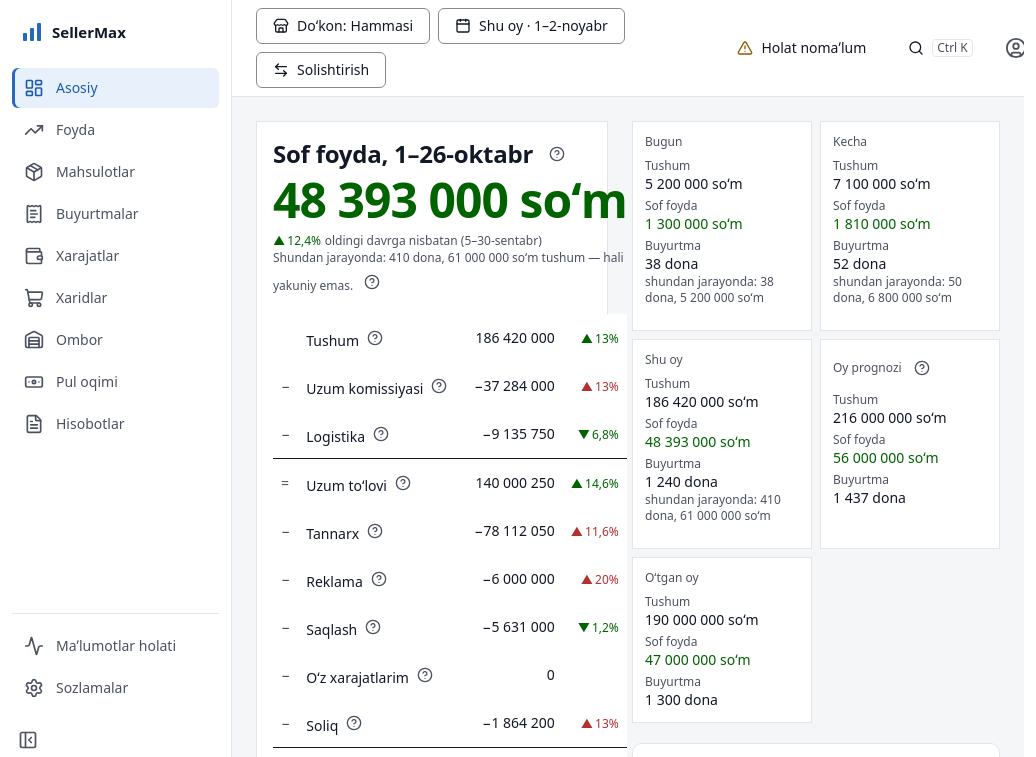
Test case: SyncIndicator › holat yuklanmasa — 'Holat nomaʼlum' (yangi deb aldamaydi)
The width and height of the screenshot is (1036, 757).
expect the navigation bar named "Asosiy menyu" is shown: met, box [12,68,219,708]
What coordinates should you click on to do the following:
click the button with aria-label "Maʼlumot yangiligi:"
I would click on:
 (802, 48)
Its box is [720,30,883,66].
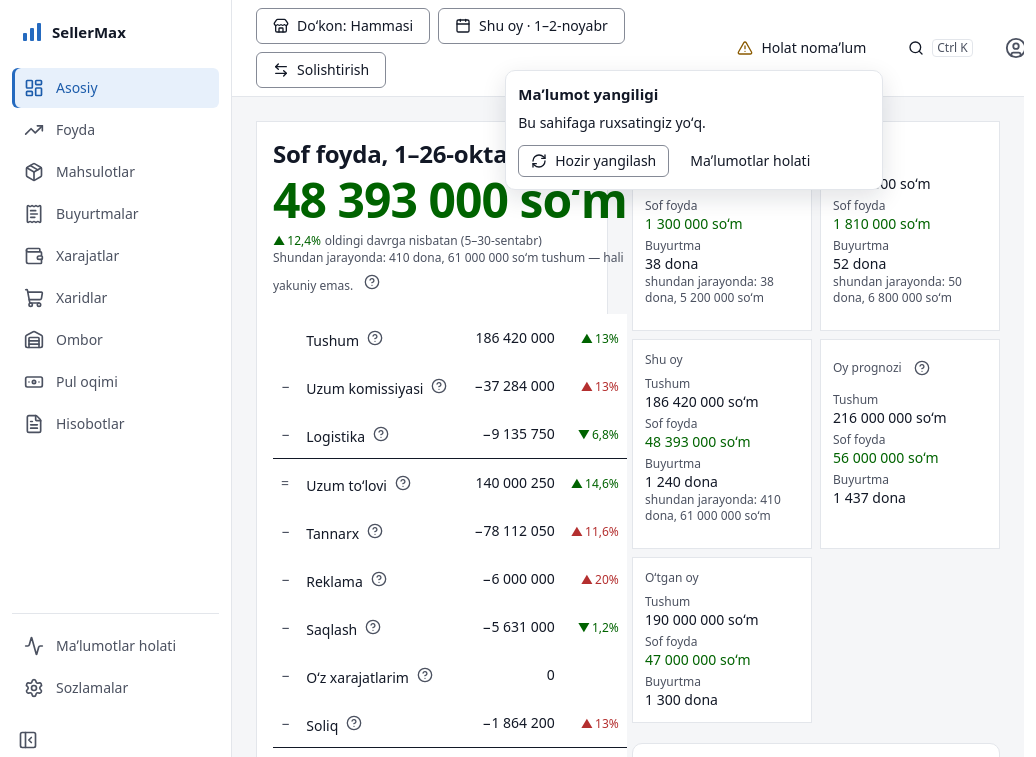
expect the message shows "ruxsatingiz yoʻq": met, box [518,113,706,132]
